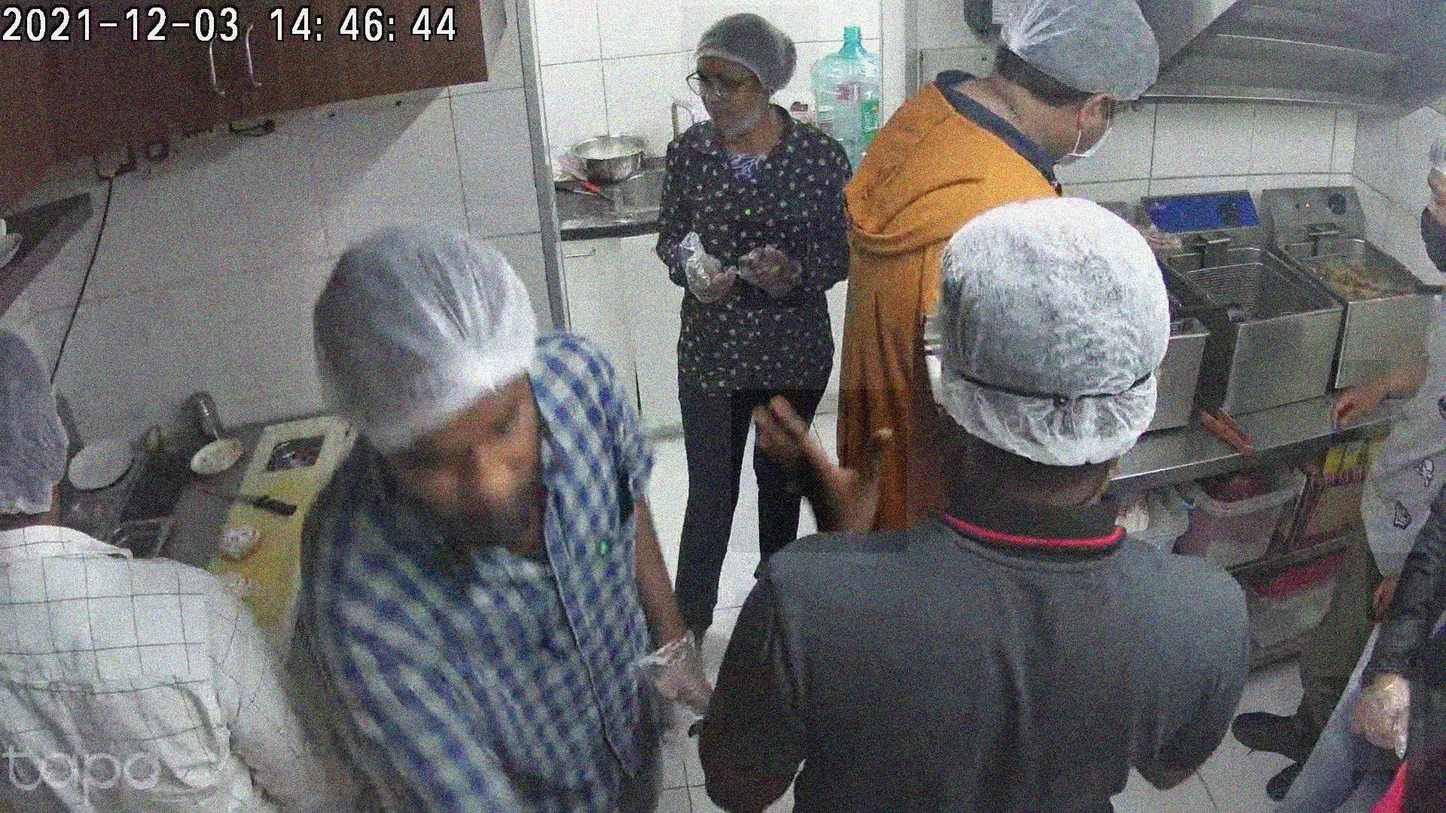apron: (638, 626, 724, 723), (1349, 668, 1424, 771), (669, 234, 741, 319), (737, 222, 808, 308)
gloves: (302, 207, 570, 478), (975, 0, 1193, 98), (1, 282, 80, 552), (681, 6, 820, 93)
mask: (1420, 167, 1441, 267)
no_apron: (731, 390, 907, 553), (1332, 360, 1390, 443), (1366, 553, 1429, 621)
no_hairnet: (396, 378, 531, 542), (696, 69, 763, 142)
